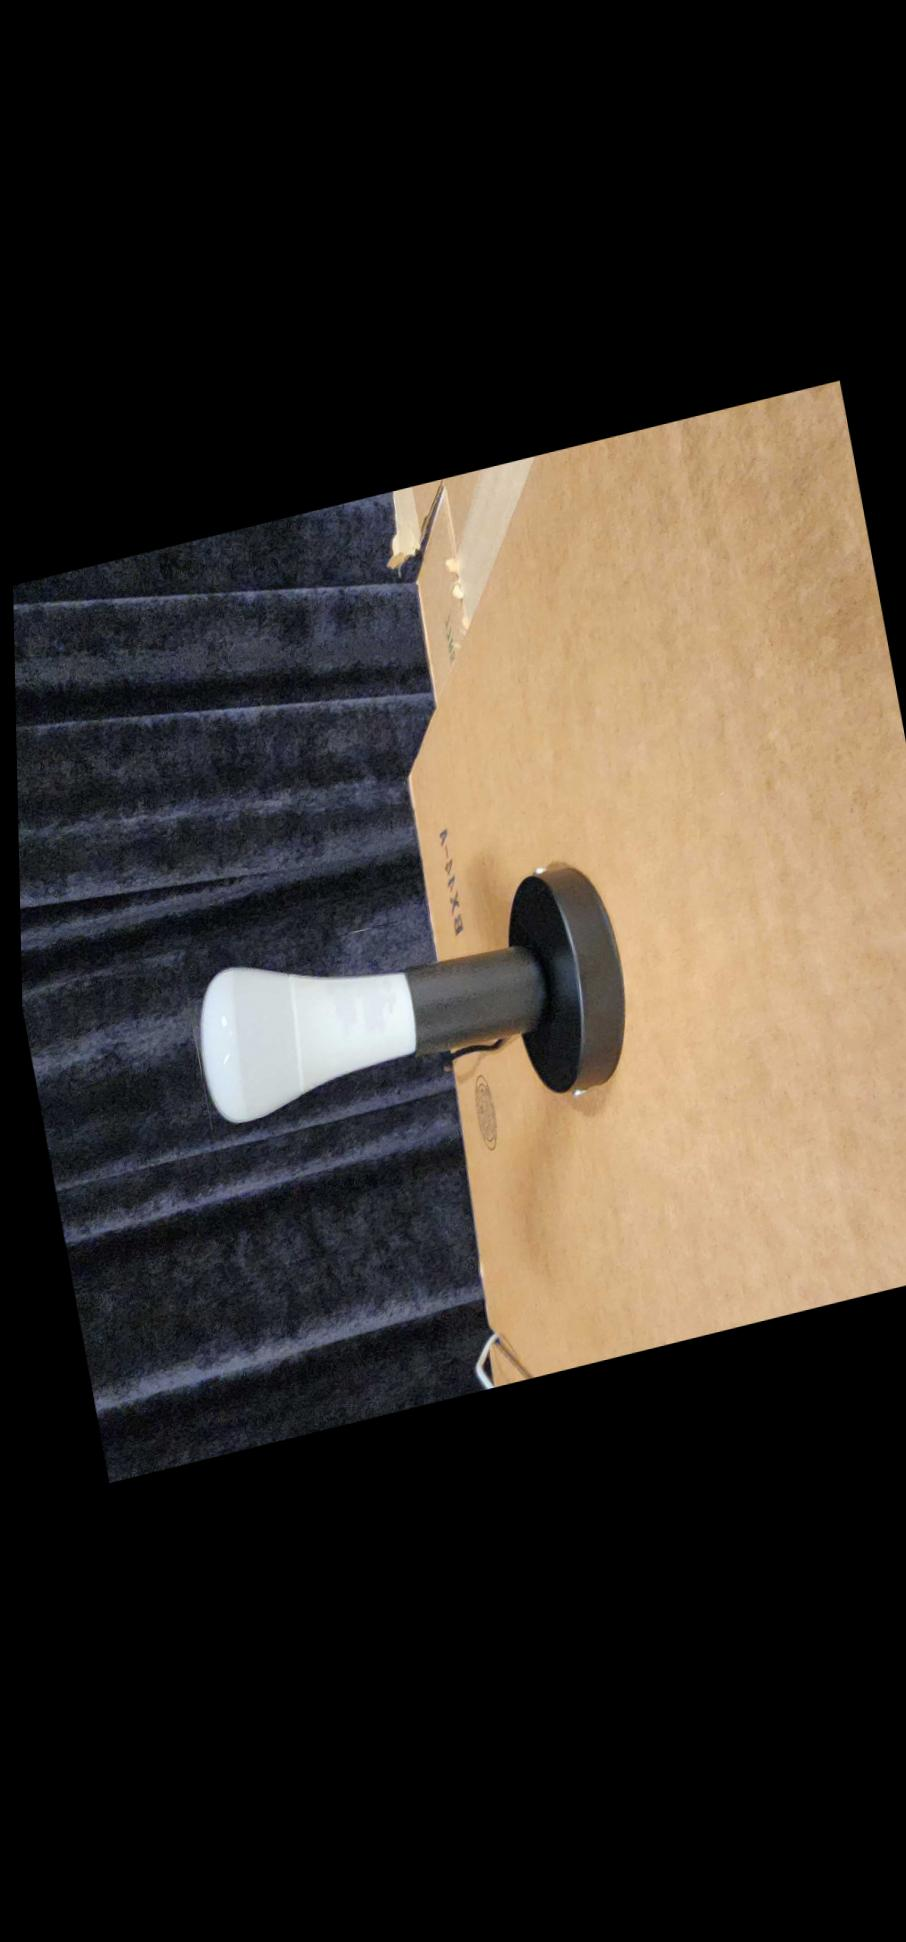Fan: (178, 925, 421, 1133)
